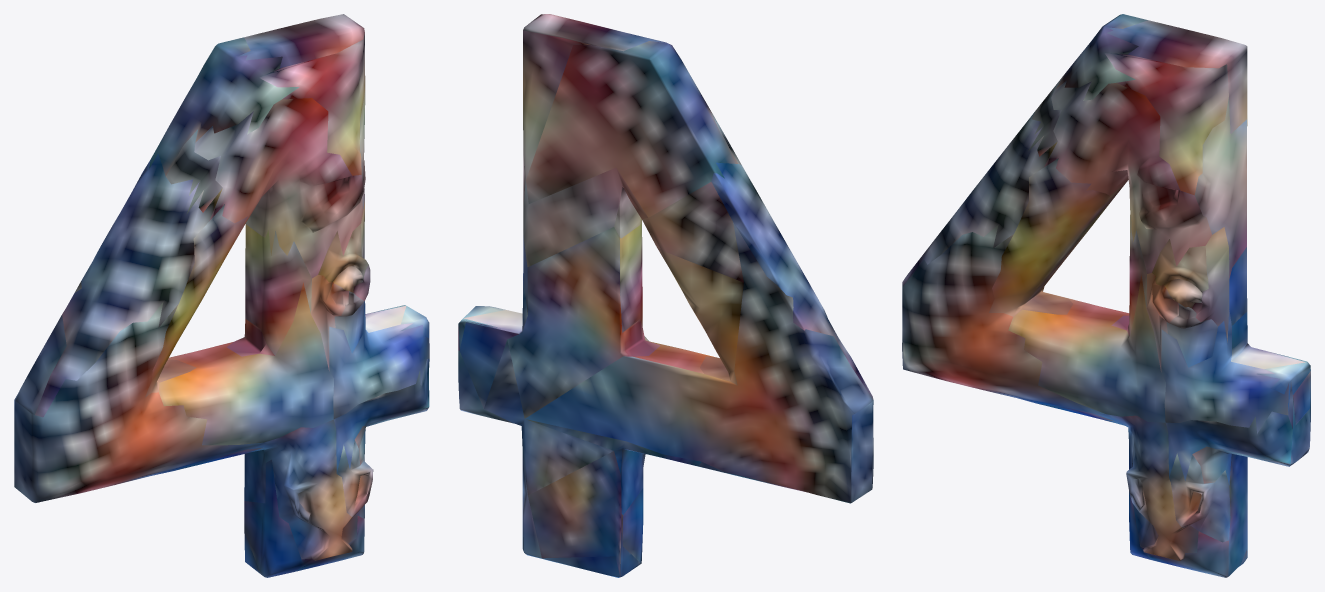
3 renders of one model, left to right at view 1: azimuth 30°, elevation 25°; view 2: azimuth 150°, elevation 25°; view 3: azimuth 330°, elevation 25°, orthographic.
Size of the model in its own units: 0.4207 by 0.5361 by 0.0726.
Materials: 1 (1 with a texture image).
